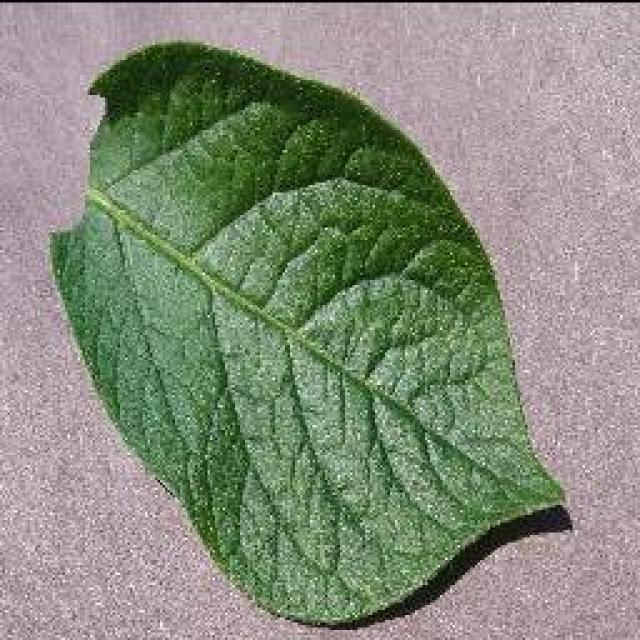Potato___healthy: (45, 41, 568, 627)
